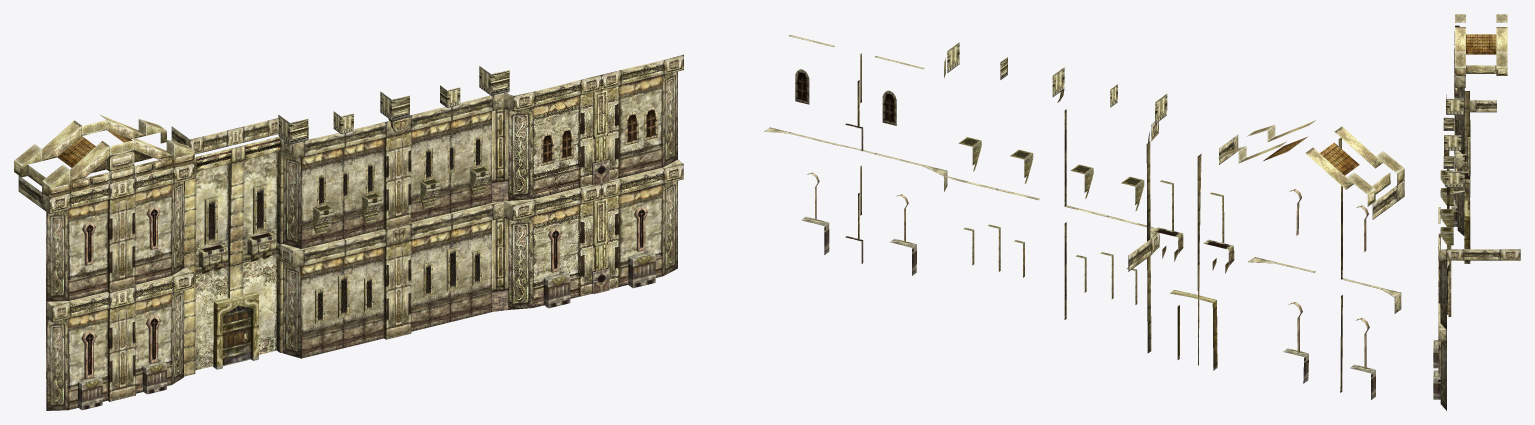
File: OZ_09_wv_bldg01BB.glb
3 views of the same model, side by side, from view 1: azimuth 30°, elevation 25°; view 2: azimuth 150°, elevation 25°; view 3: azimuth 270°, elevation 25° (orthographic). The views are drawn at different scales.
Visible parts, largest first — view 1: OM_09_wv_bldg01BB; view 2: OM_09_wv_bldg01BB; view 3: OM_09_wv_bldg01BB.
Boxes of the visible parts, box(x1,y1,x2,y2) form: OM_09_wv_bldg01BB: box(14, 54, 683, 410); OM_09_wv_bldg01BB: box(764, 35, 1404, 399); OM_09_wv_bldg01BB: box(1433, 14, 1520, 410).
Bounding box in the file's own units: 30.04 × 11.79 × 4.91.
9 materials, 9 textured.
